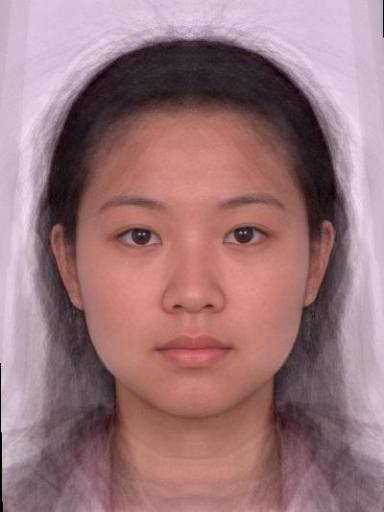left_eye: (222, 223, 274, 251)
left_lip_corner: (226, 341, 240, 357)
right_eye: (111, 226, 165, 252)
right_lip_corner: (149, 342, 164, 359)
